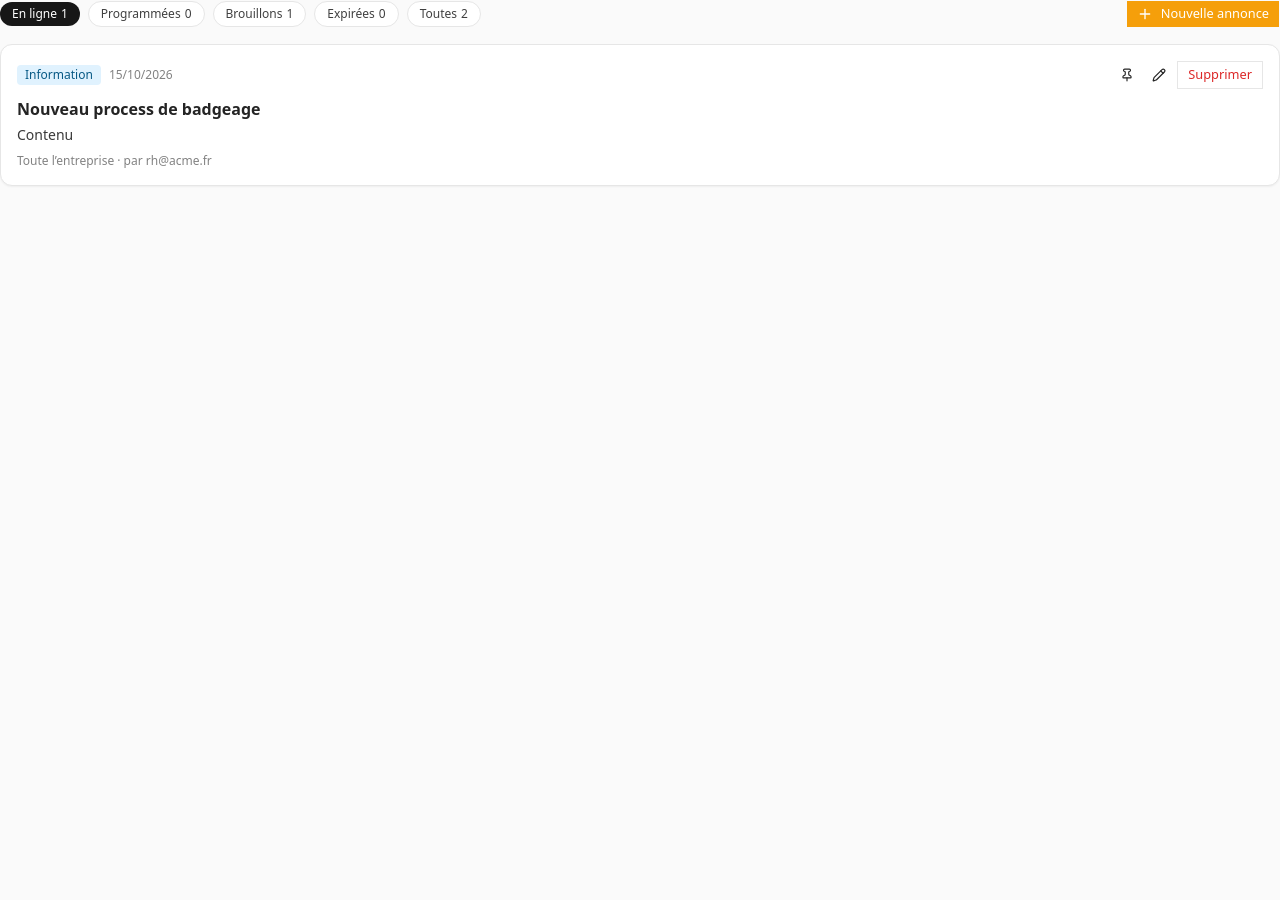
AnnoncesGestion › refuse une expiration antérieure à la publication
Click the button "Nouvelle annonce" at (1203, 14), box [1126,0,1279,28]
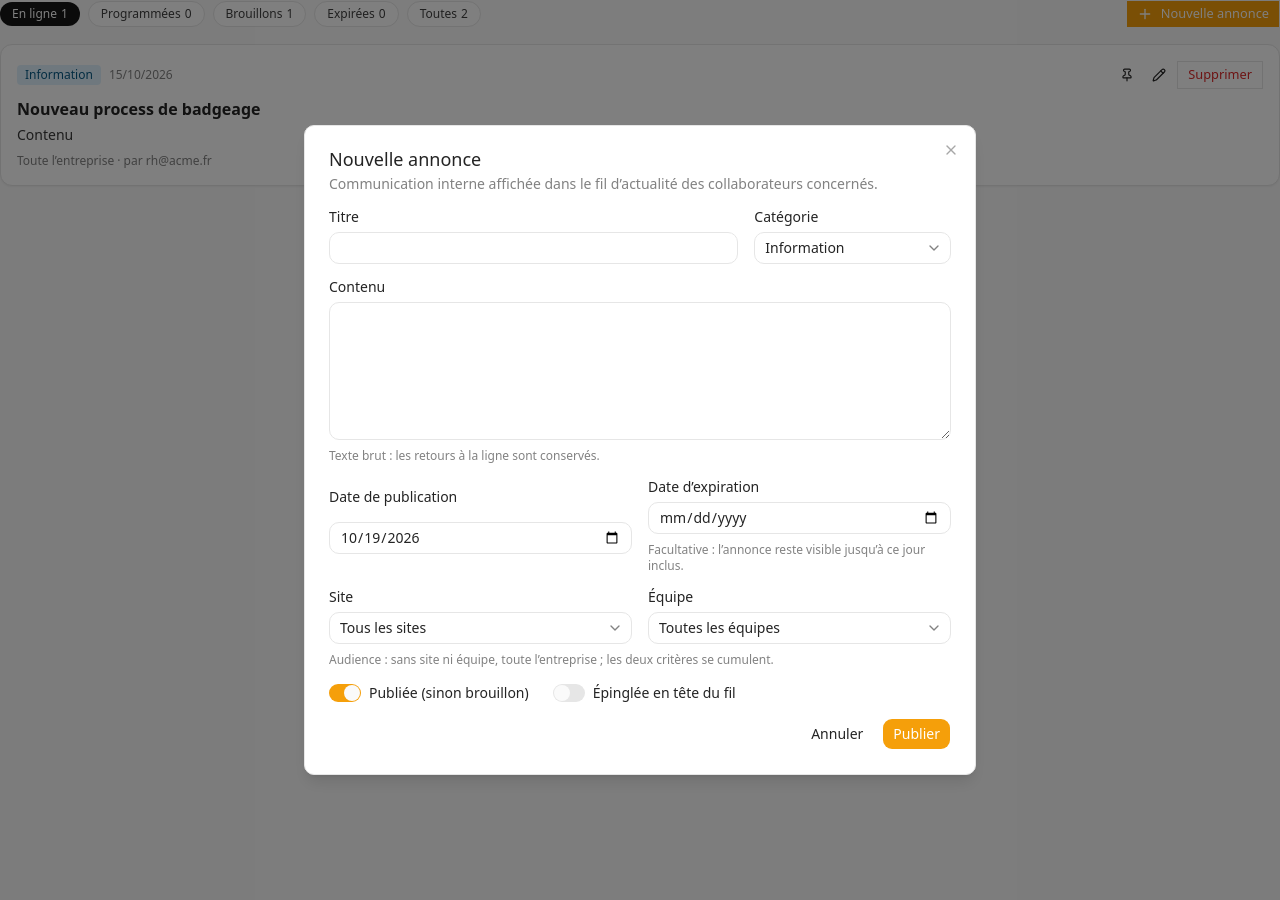
Type "Info" into the field labelled "Titre" at (534, 248), box [329,232,738,264]
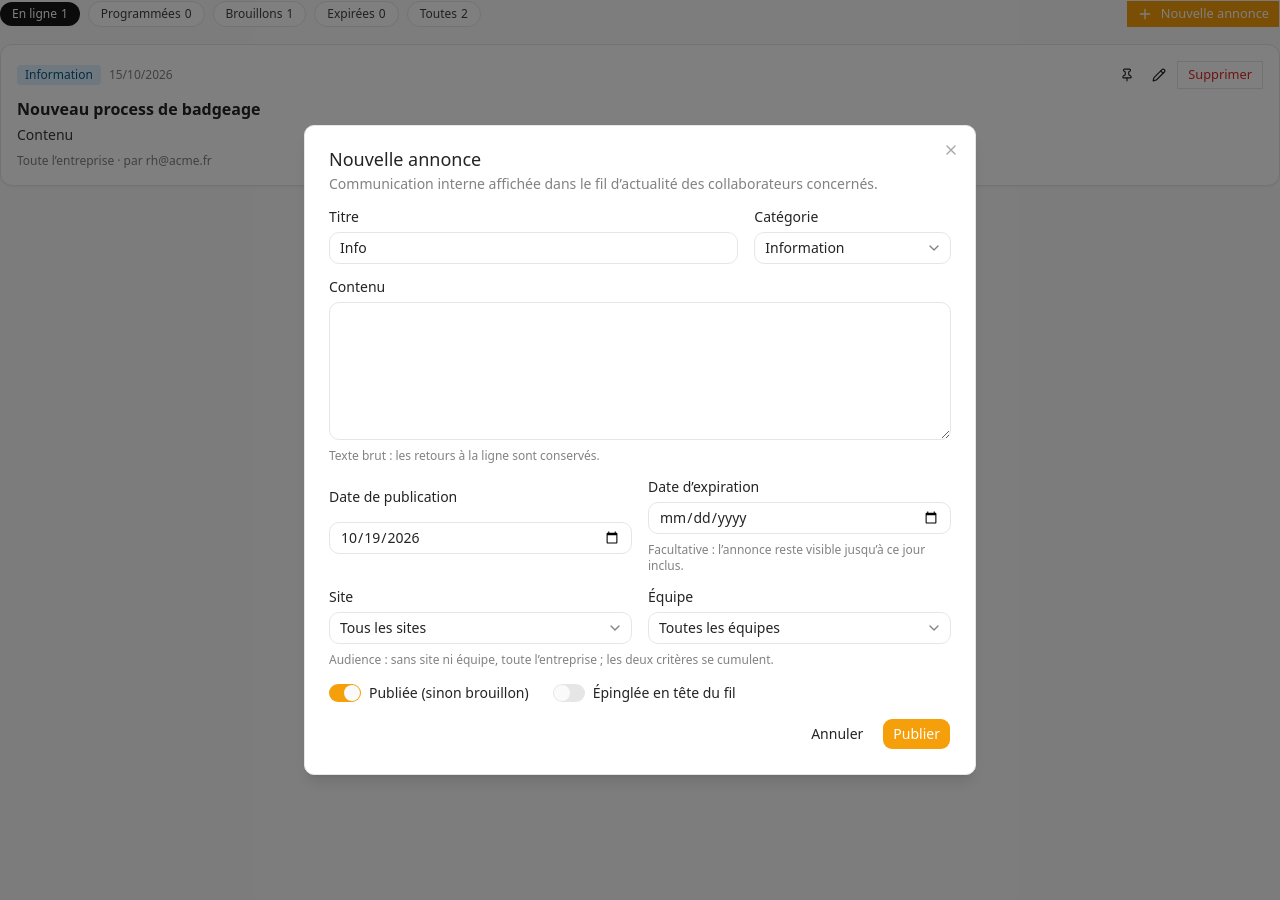
Type "Texte" into the text box labelled "Contenu" at (640, 371), box [329,302,951,440]
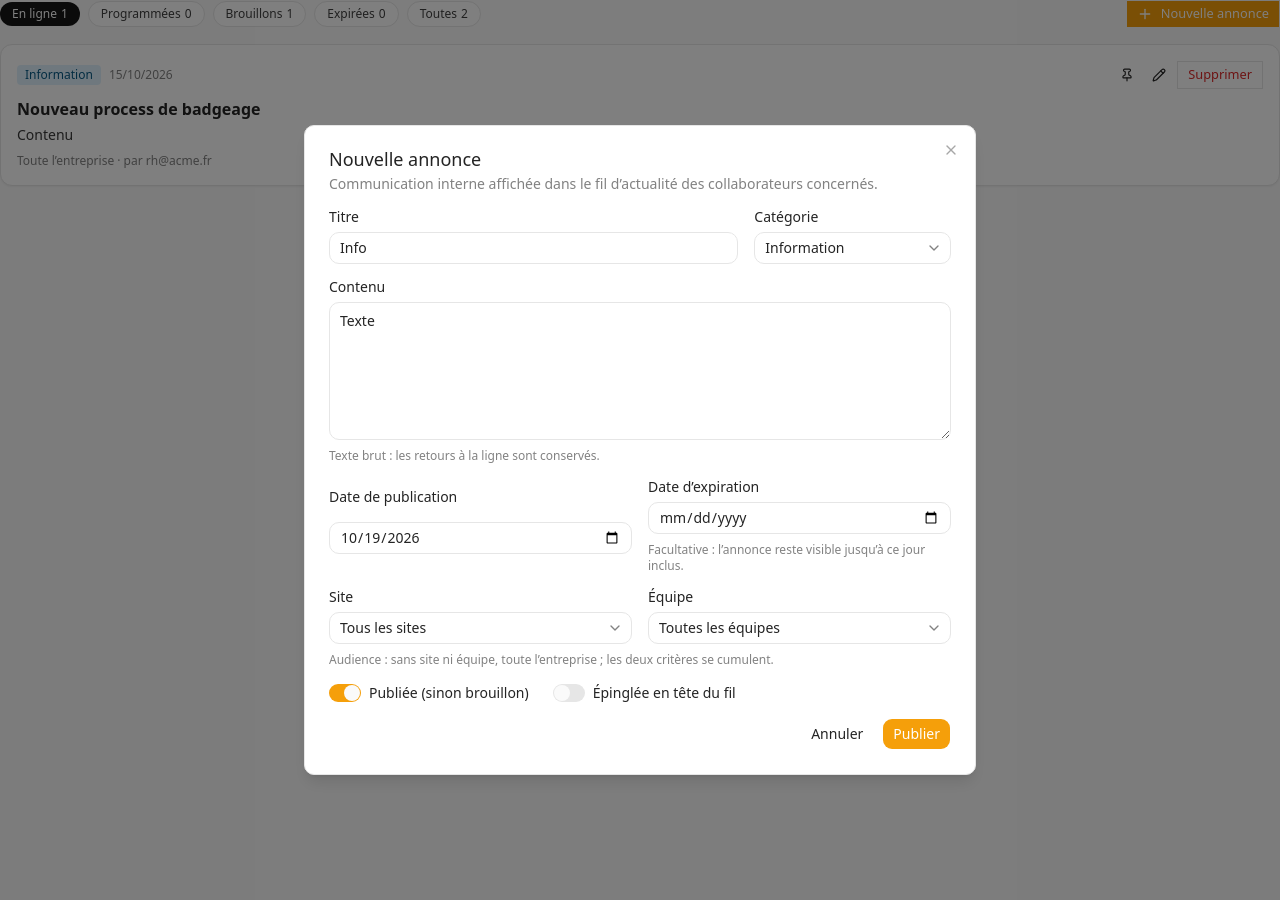
Type "2026-10-01" into the date field labelled "Date d’expiration" at (800, 518), box [648,502,951,534]
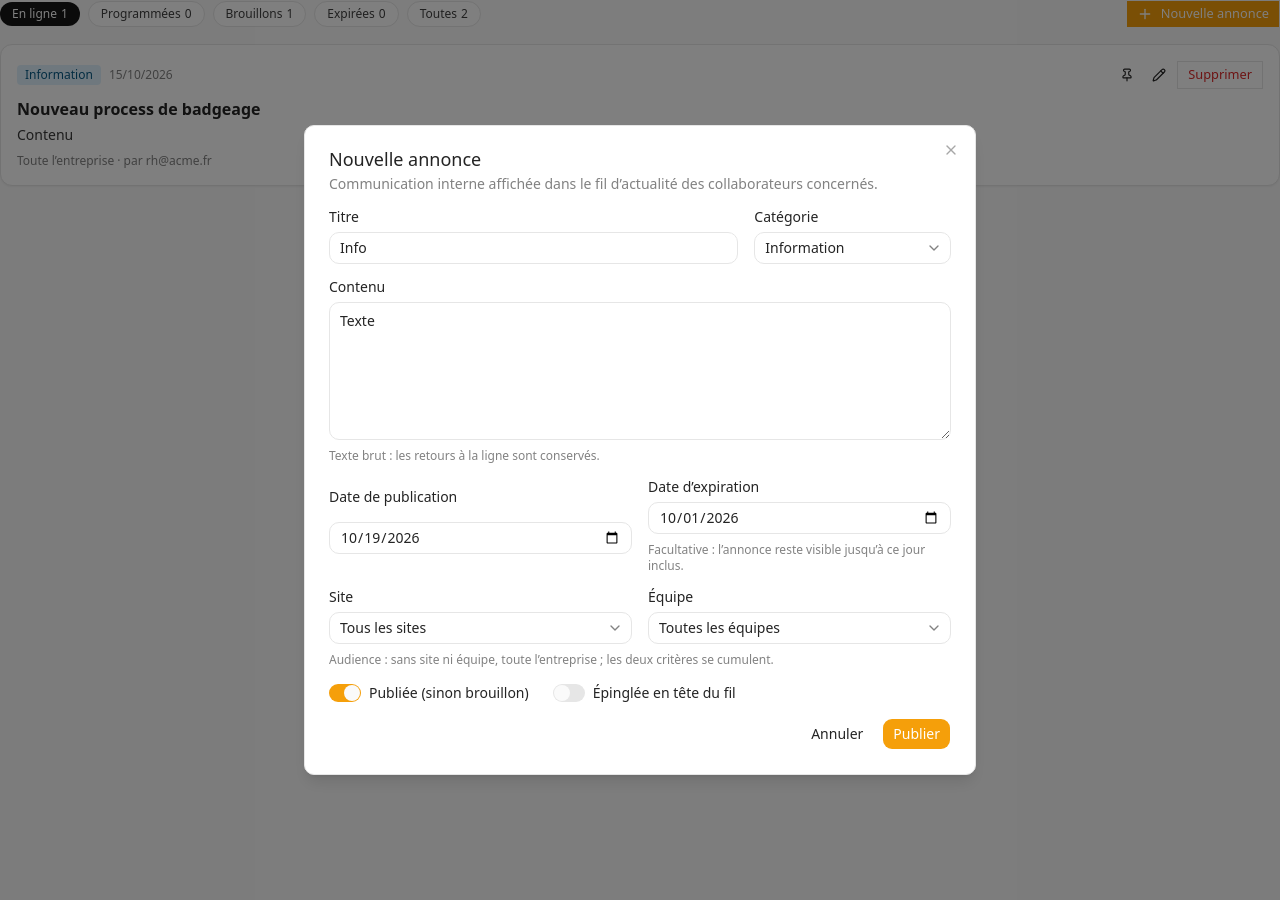
Click the button "Publier" at (917, 734), box [882,718,951,750]
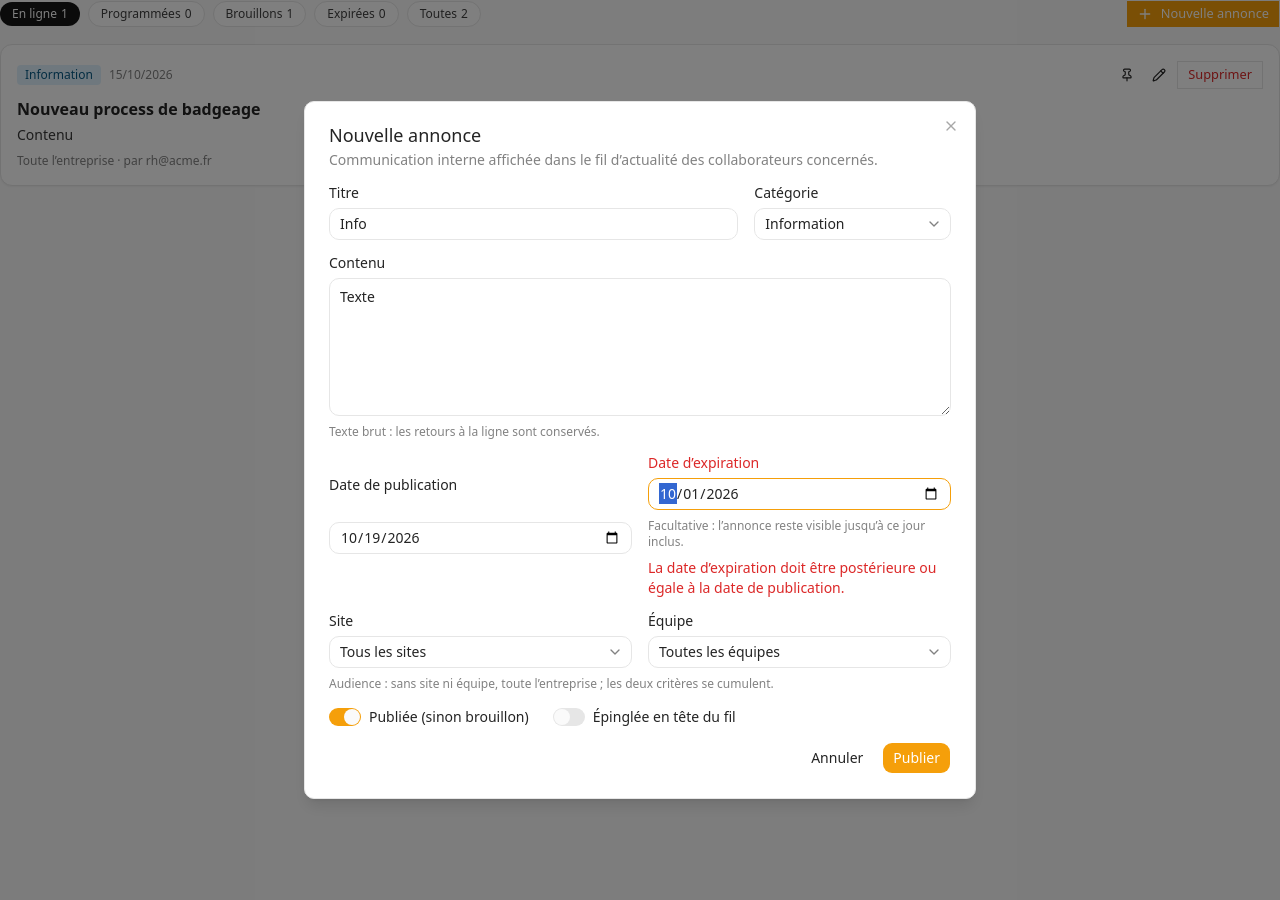
Expected: the text "doit être postérieure ou égale" is shown, [648,558,936,597]
